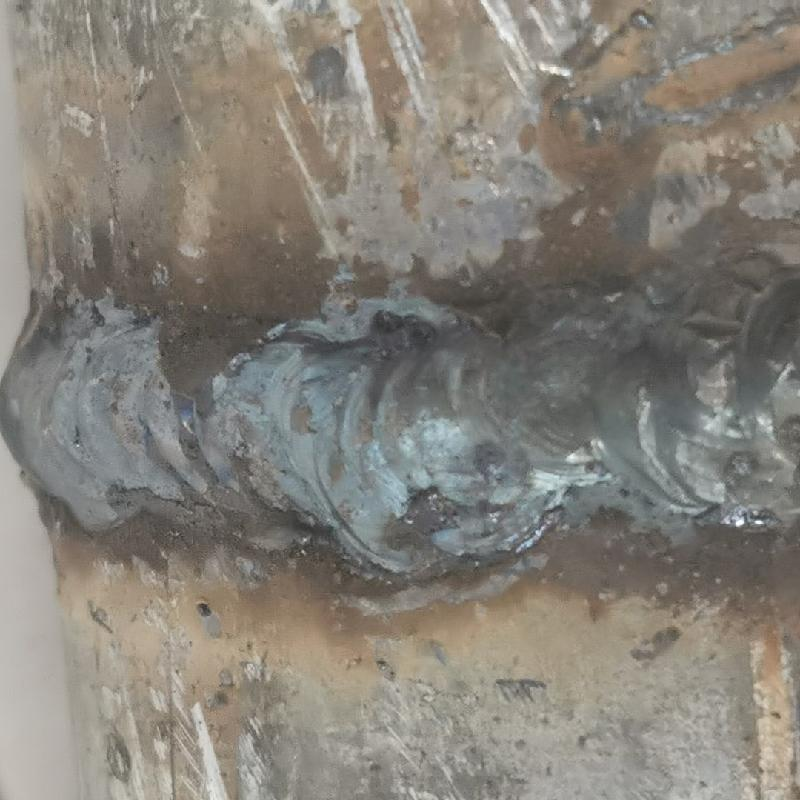good: (0, 272, 799, 561)
